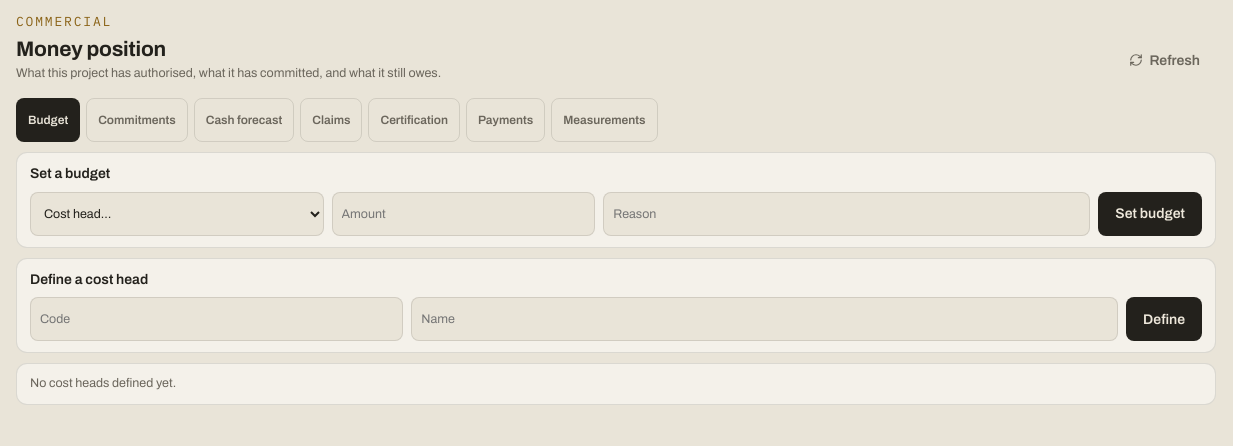
Test: Task 7B-ii (§M) — the rendered claim tabs never dereference an absent claim › H1: a cached list whose refresh FAILED says so, with a retry
Click the button with test id "commercial-tab-claims" at (331, 120), box [300,98,362,142]
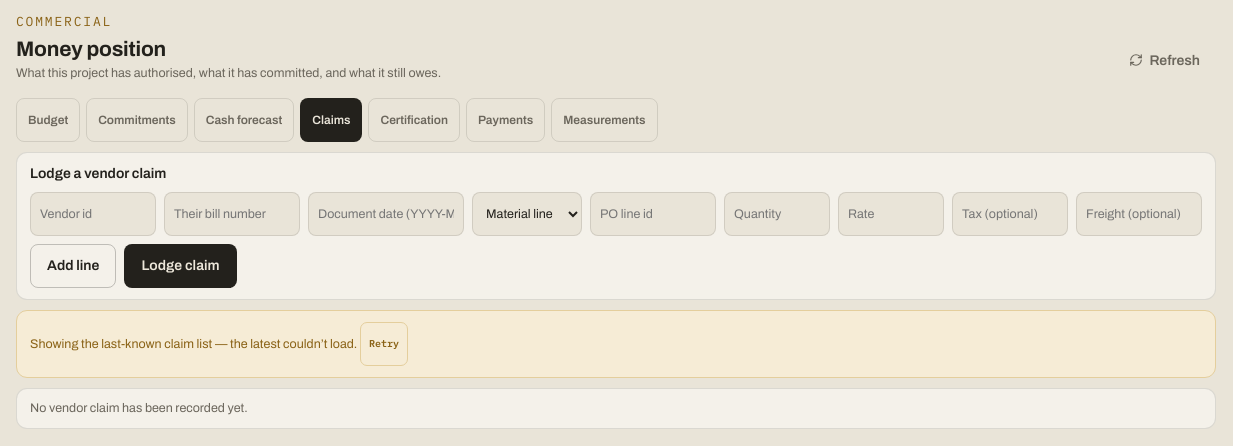
Now the text "No vendor claim has been recorded yet." is shown, box [16,388,1216,429]
Now the element with test id "commercial-claims-stale" is shown, box [16,310,1216,378]
Now the button with test id "commercial-claims-stale-retry" is shown, box [360,322,408,366]
